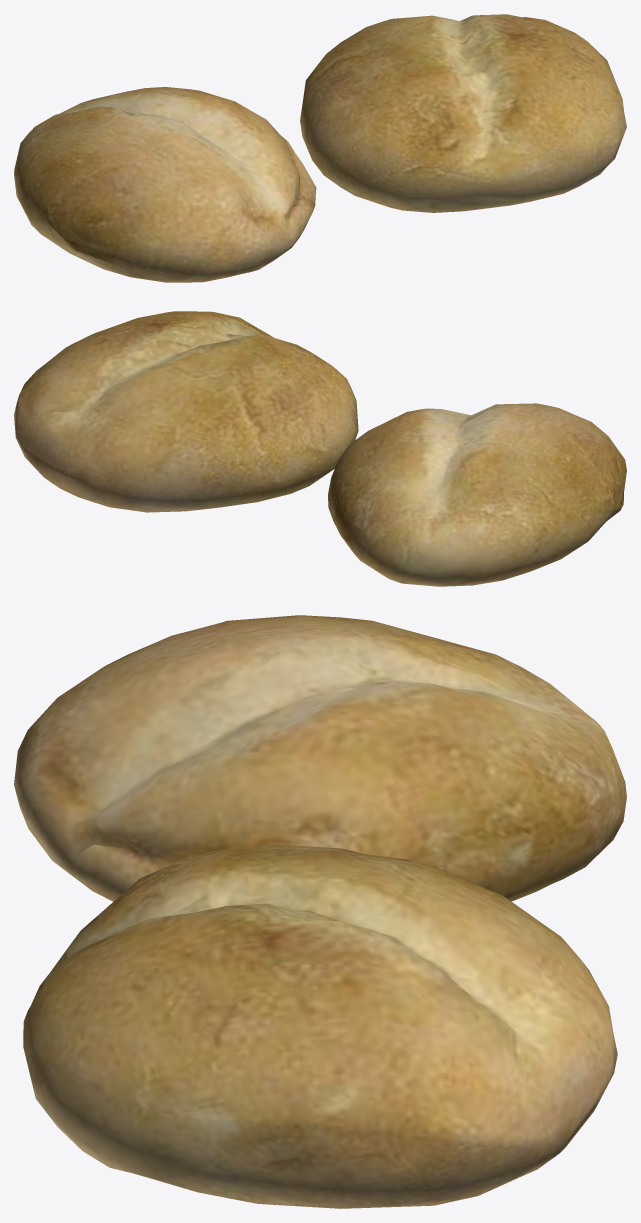
Rendered from chleb_okragly.glb.
3 renders of one model, top to bottom at view 1: azimuth 30°, elevation 25°; view 2: azimuth 150°, elevation 25°; view 3: azimuth 270°, elevation 25°, orthographic. The views are drawn at different scales.
Parts seen in each view (by area): view 1: chleb_okragly; view 2: chleb_okragly; view 3: chleb_okragly.
Part boxes in pixels (x1,y1,x2,y2): chleb_okragly: (14, 14, 626, 282); chleb_okragly: (14, 311, 626, 586); chleb_okragly: (14, 615, 626, 1208).
Size of the model in its own units: 0.3934 by 0.0824 by 0.2082.
1 material, 1 textured.
